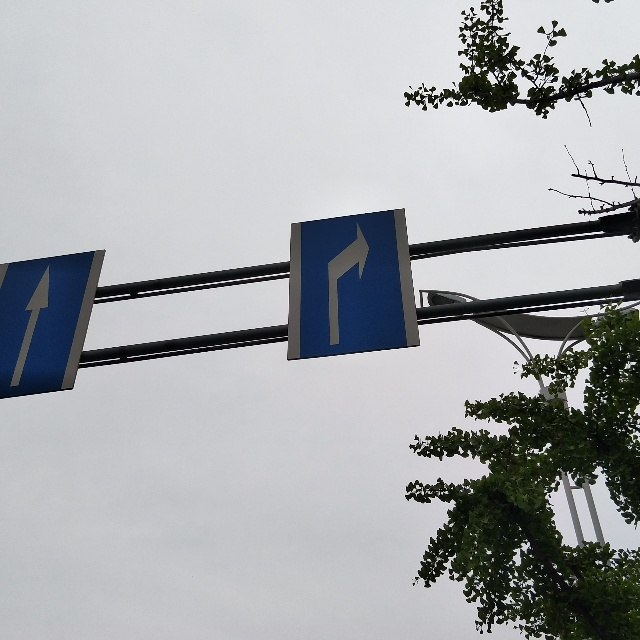right: (309, 218, 392, 346)
straight: (8, 261, 62, 392)
